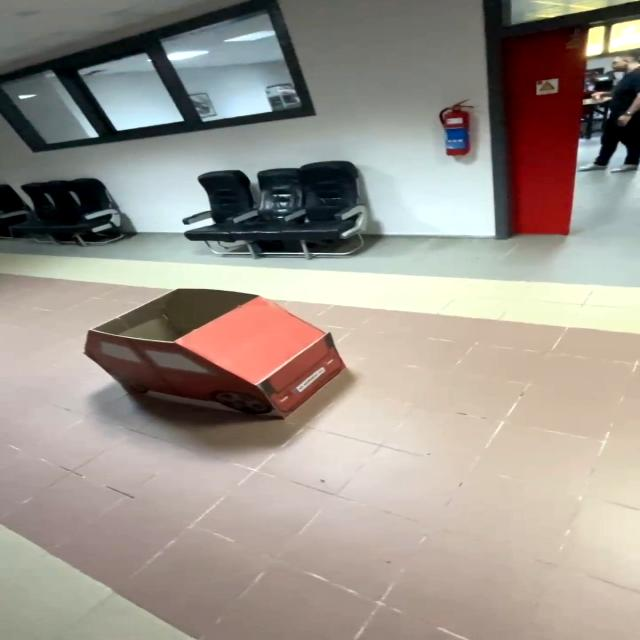red_car: (66, 274, 368, 456)
